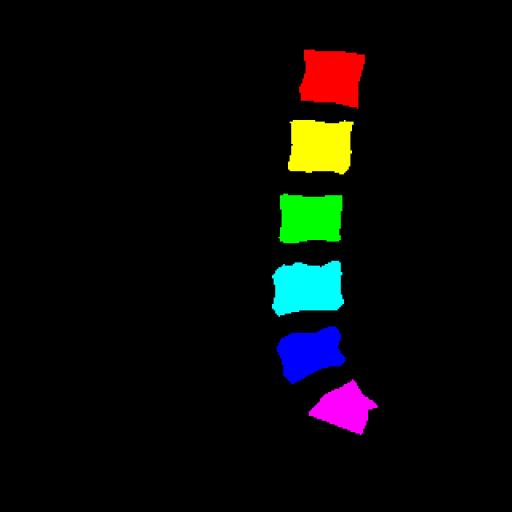L1: (299, 50, 365, 108)
L2: (288, 120, 353, 174)
L3: (279, 194, 342, 243)
L4: (272, 261, 344, 316)
L5: (277, 327, 345, 384)
S1: (309, 380, 377, 434)
